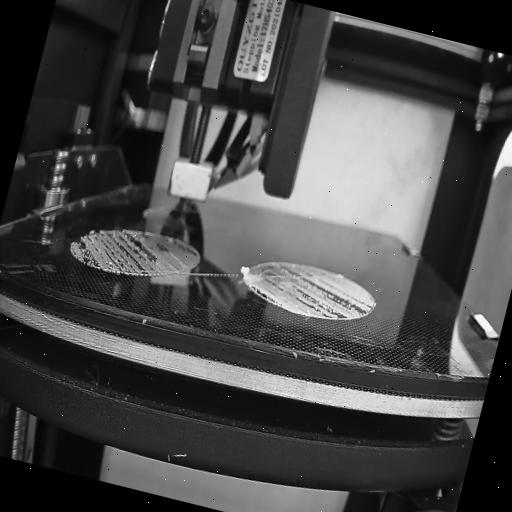under_extrusion: (248, 258, 380, 330), (66, 216, 172, 284), (170, 238, 201, 262)
